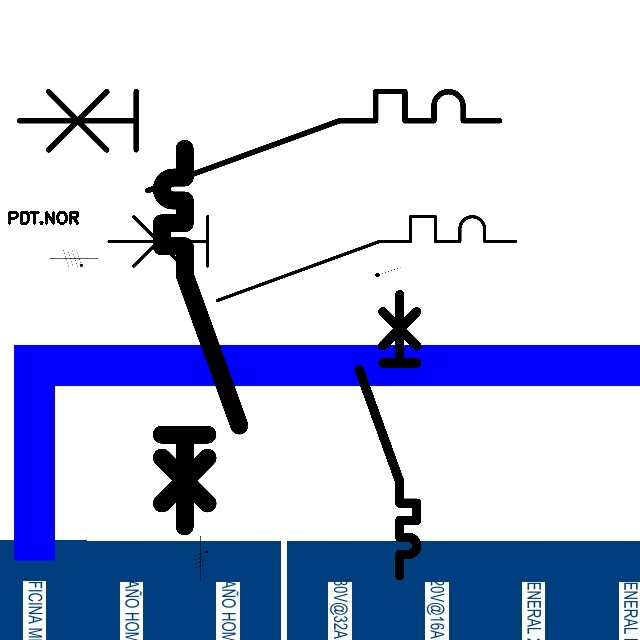interruptor_termomagnetico: (7, 79, 512, 202), (98, 206, 526, 310), (152, 139, 249, 536), (352, 287, 424, 583)
